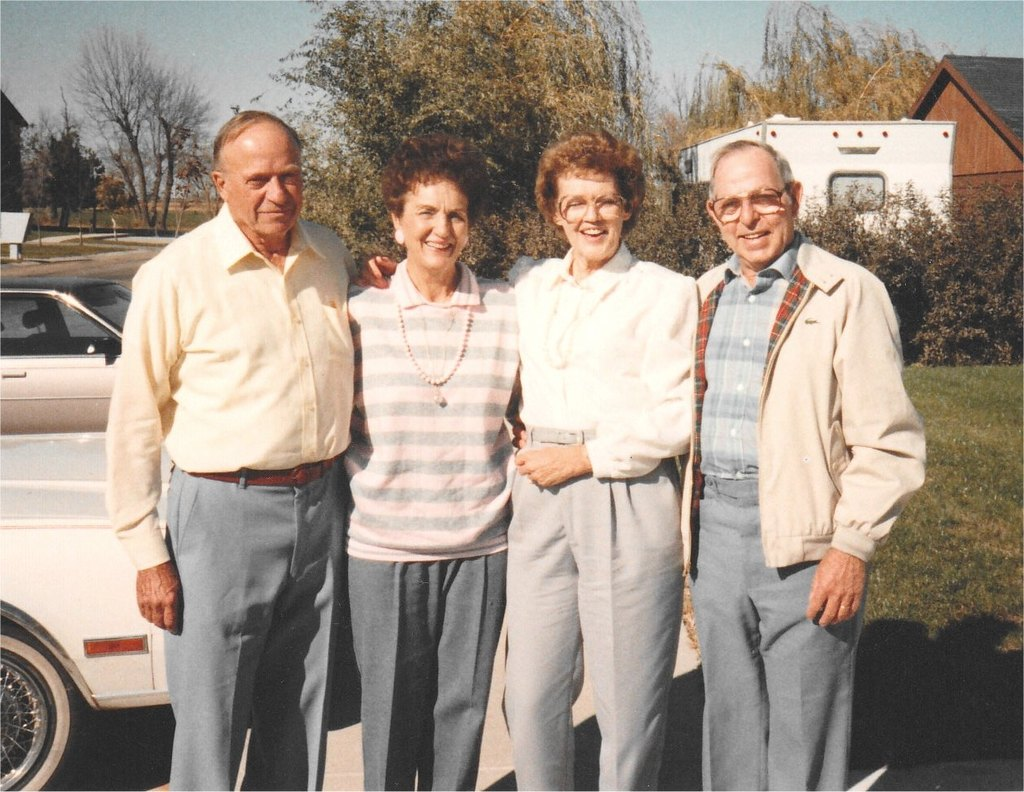Car: (0, 271, 129, 434)
